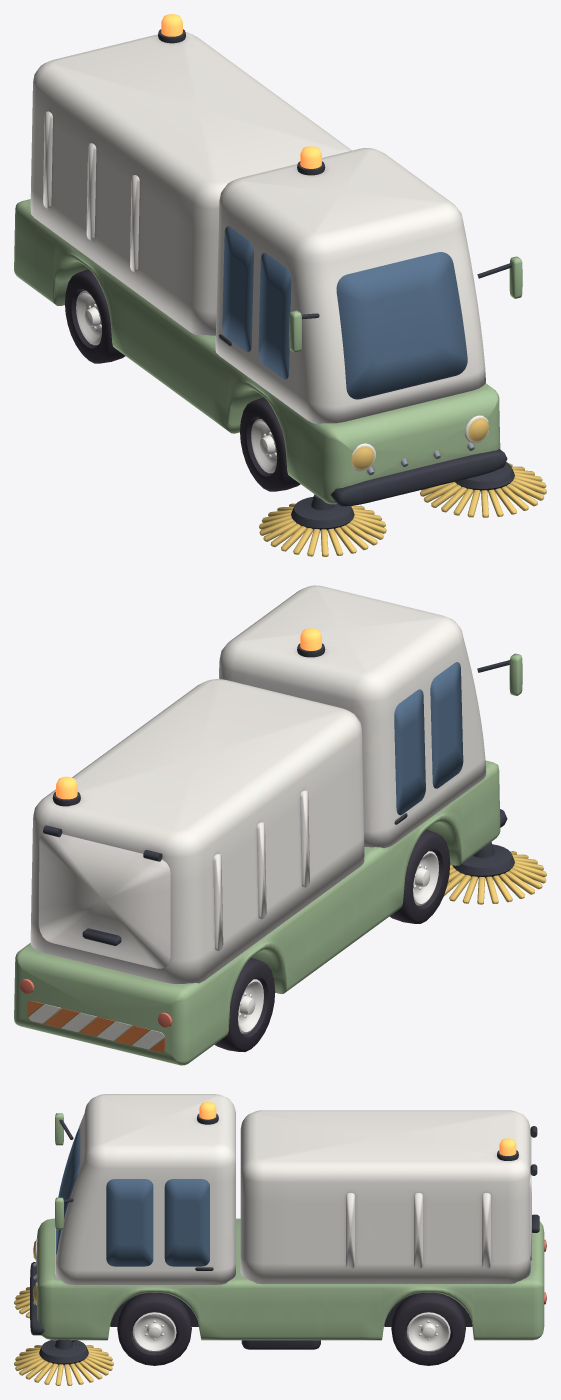
Rendered from street-sweeper.glb.
3 renders of one model, top to bottom at view 1: azimuth 30°, elevation 25°; view 2: azimuth 150°, elevation 25°; view 3: azimuth 270°, elevation 25°, orthographic. The views are drawn at different scales.
Parts seen in each view (by area): view 1: street-sweeper_body, street-sweeper_windows, street-sweeper_brush_r, street-sweeper_brush_l, street-sweeper_wheel_fr, street-sweeper_wheel_rr, street-sweeper_headlights; view 2: street-sweeper_body, street-sweeper_windows, street-sweeper_brush_r, street-sweeper_wheel_fr, street-sweeper_wheel_rr; view 3: street-sweeper_body, street-sweeper_windows, street-sweeper_wheel_fl, street-sweeper_wheel_rl, street-sweeper_brush_l.
Part boxes in pixels (x1,y1,x2,y2): street-sweeper_body: (14,29,522,506); street-sweeper_windows: (222,226,467,399); street-sweeper_brush_r: (259,494,386,556); street-sweeper_brush_l: (420,462,546,517); street-sweeper_wheel_fr: (240,397,300,491); street-sweeper_wheel_rr: (65,269,125,363); street-sweeper_headlights: (351,415,488,471); street-sweeper_body: (14,585,522,1065); street-sweeper_windows: (394,662,463,815); street-sweeper_brush_r: (443,842,546,904); street-sweeper_wheel_fr: (389,829,450,923); street-sweeper_wheel_rr: (214,958,275,1052); street-sweeper_body: (30,1094,544,1349); street-sweeper_windows: (56,1128,209,1266); street-sweeper_wheel_fl: (117,1292,191,1365); street-sweeper_wheel_rl: (391,1292,465,1365); street-sweeper_brush_l: (14,1339,113,1385).
Bounding box in the file's own units: 2.16 × 2.27 × 4.71.
5 materials, 5 textured.
